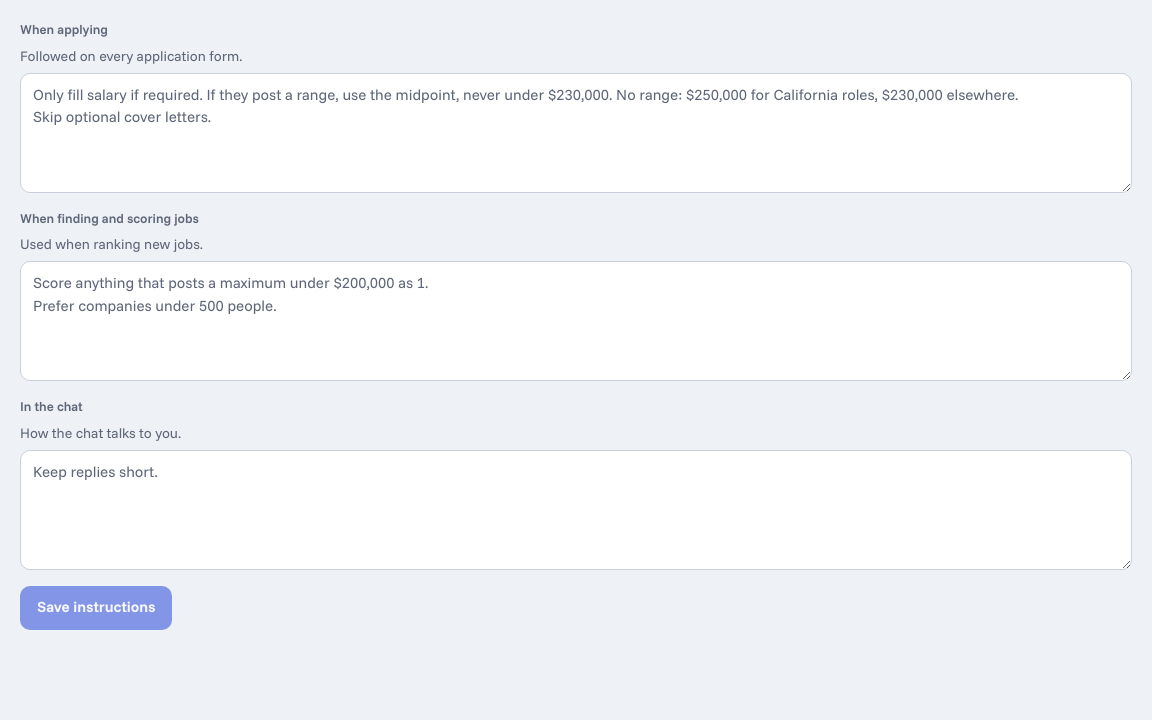
Scenario: InstructionsView › loads, edits, and saves with expectedRevision
Step 1. Replace the text in the text box labelled "When applying" with "Midpoint salary" → (576,132), box [20,72,1132,192]
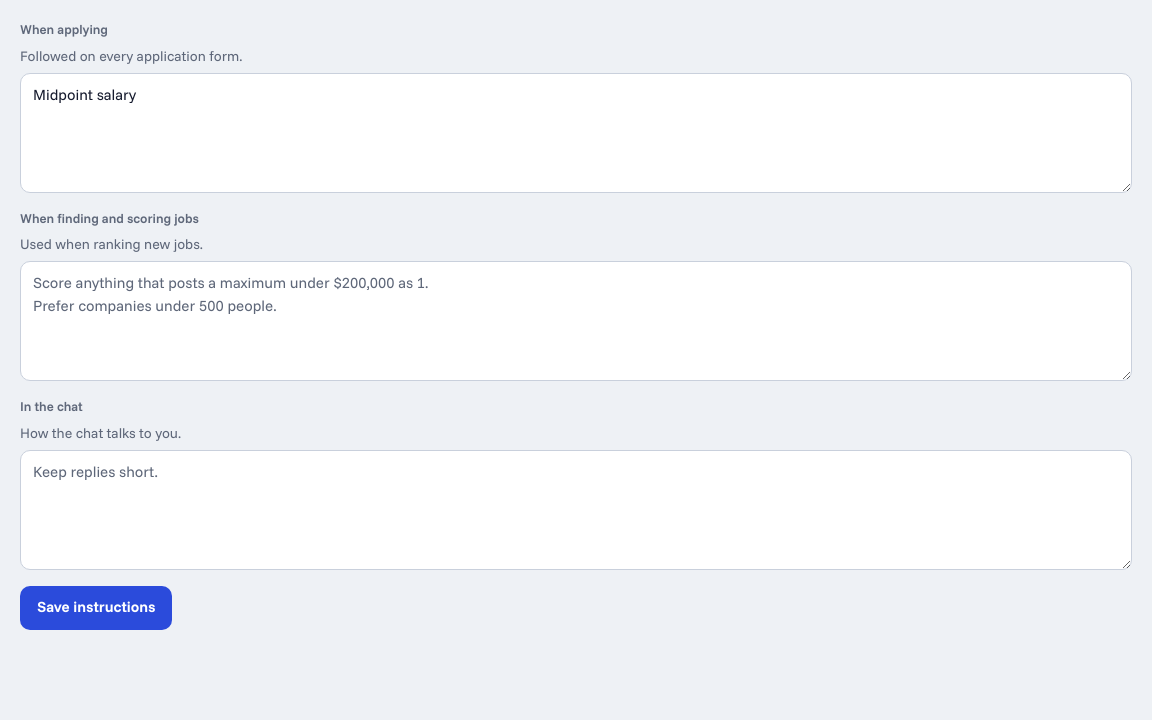
Check: the button "Save instructions" is enabled
Step 2. Click the button "Save instructions" → (96,608), box [20,586,172,630]
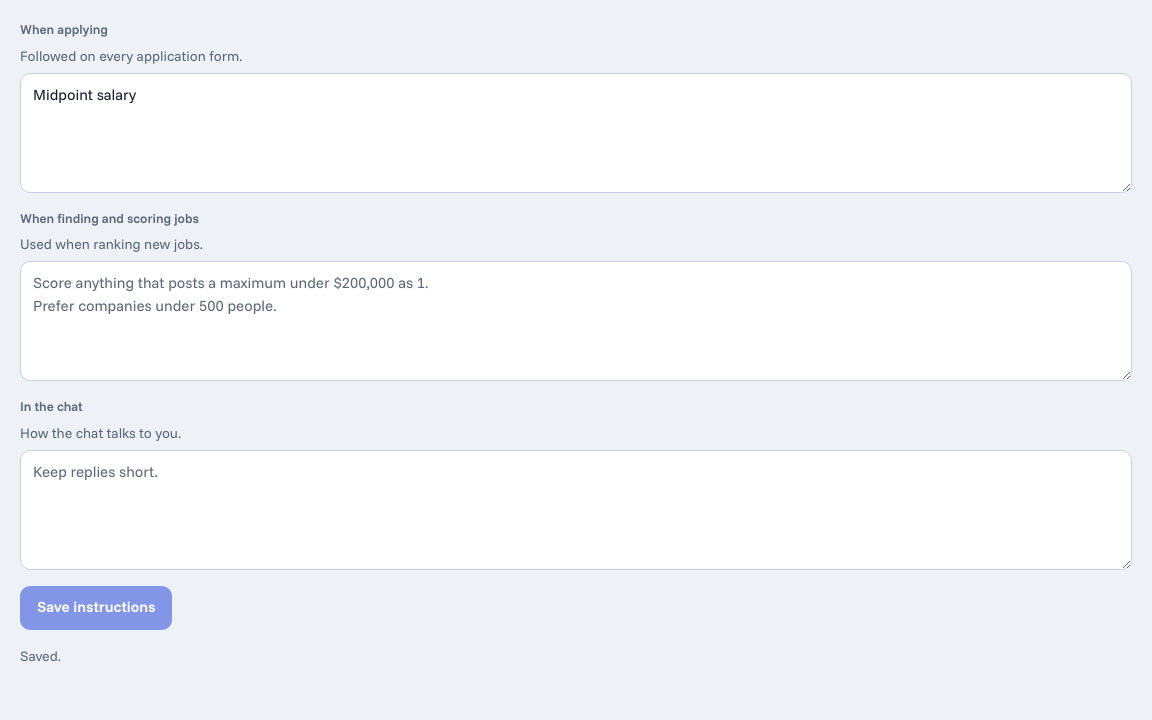
Check: the text "Saved." is shown, box [20,646,61,664]
